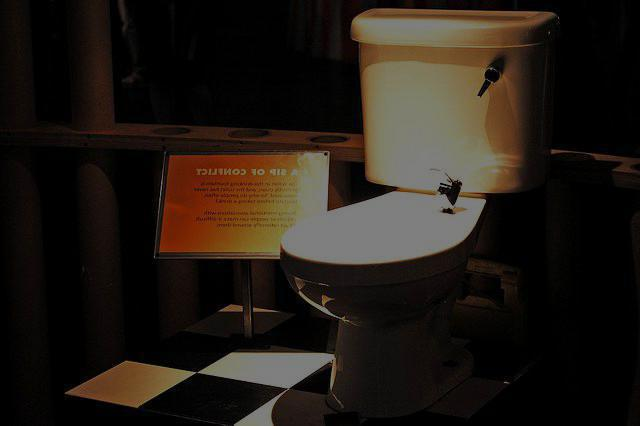Sanitario: (268, 3, 564, 416)
